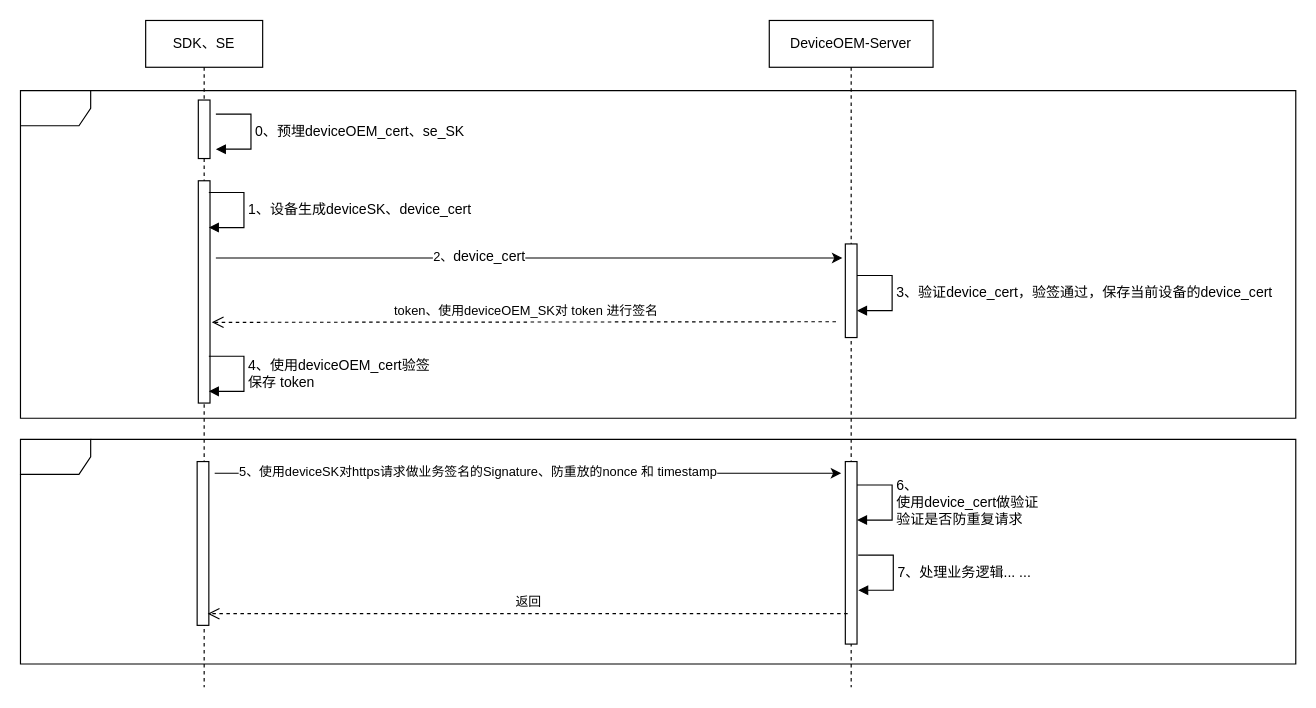
Image size: 1316x708. Some labels were removed from this diagram. The box of each missing label's shape, as (x1, y1, x2, y2) in pixels:
协商后的业务请求: (19, 438, 1296, 664)
安全协商生成token: (19, 90, 1296, 418)
